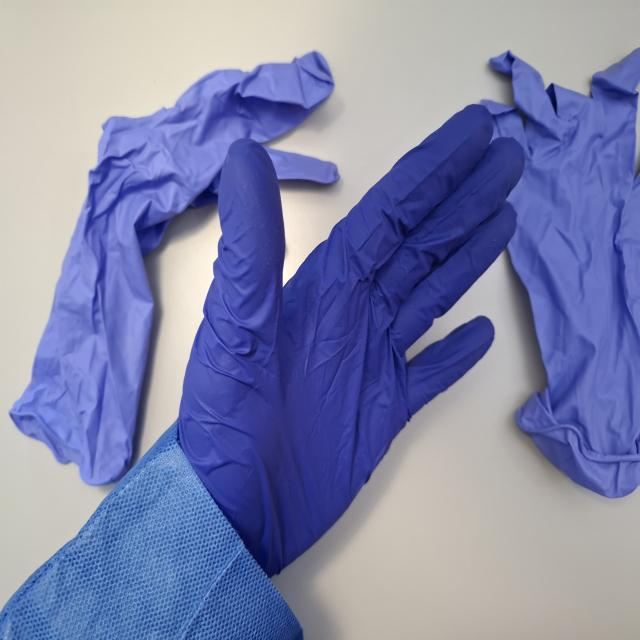glove_on: (175, 97, 530, 585)
